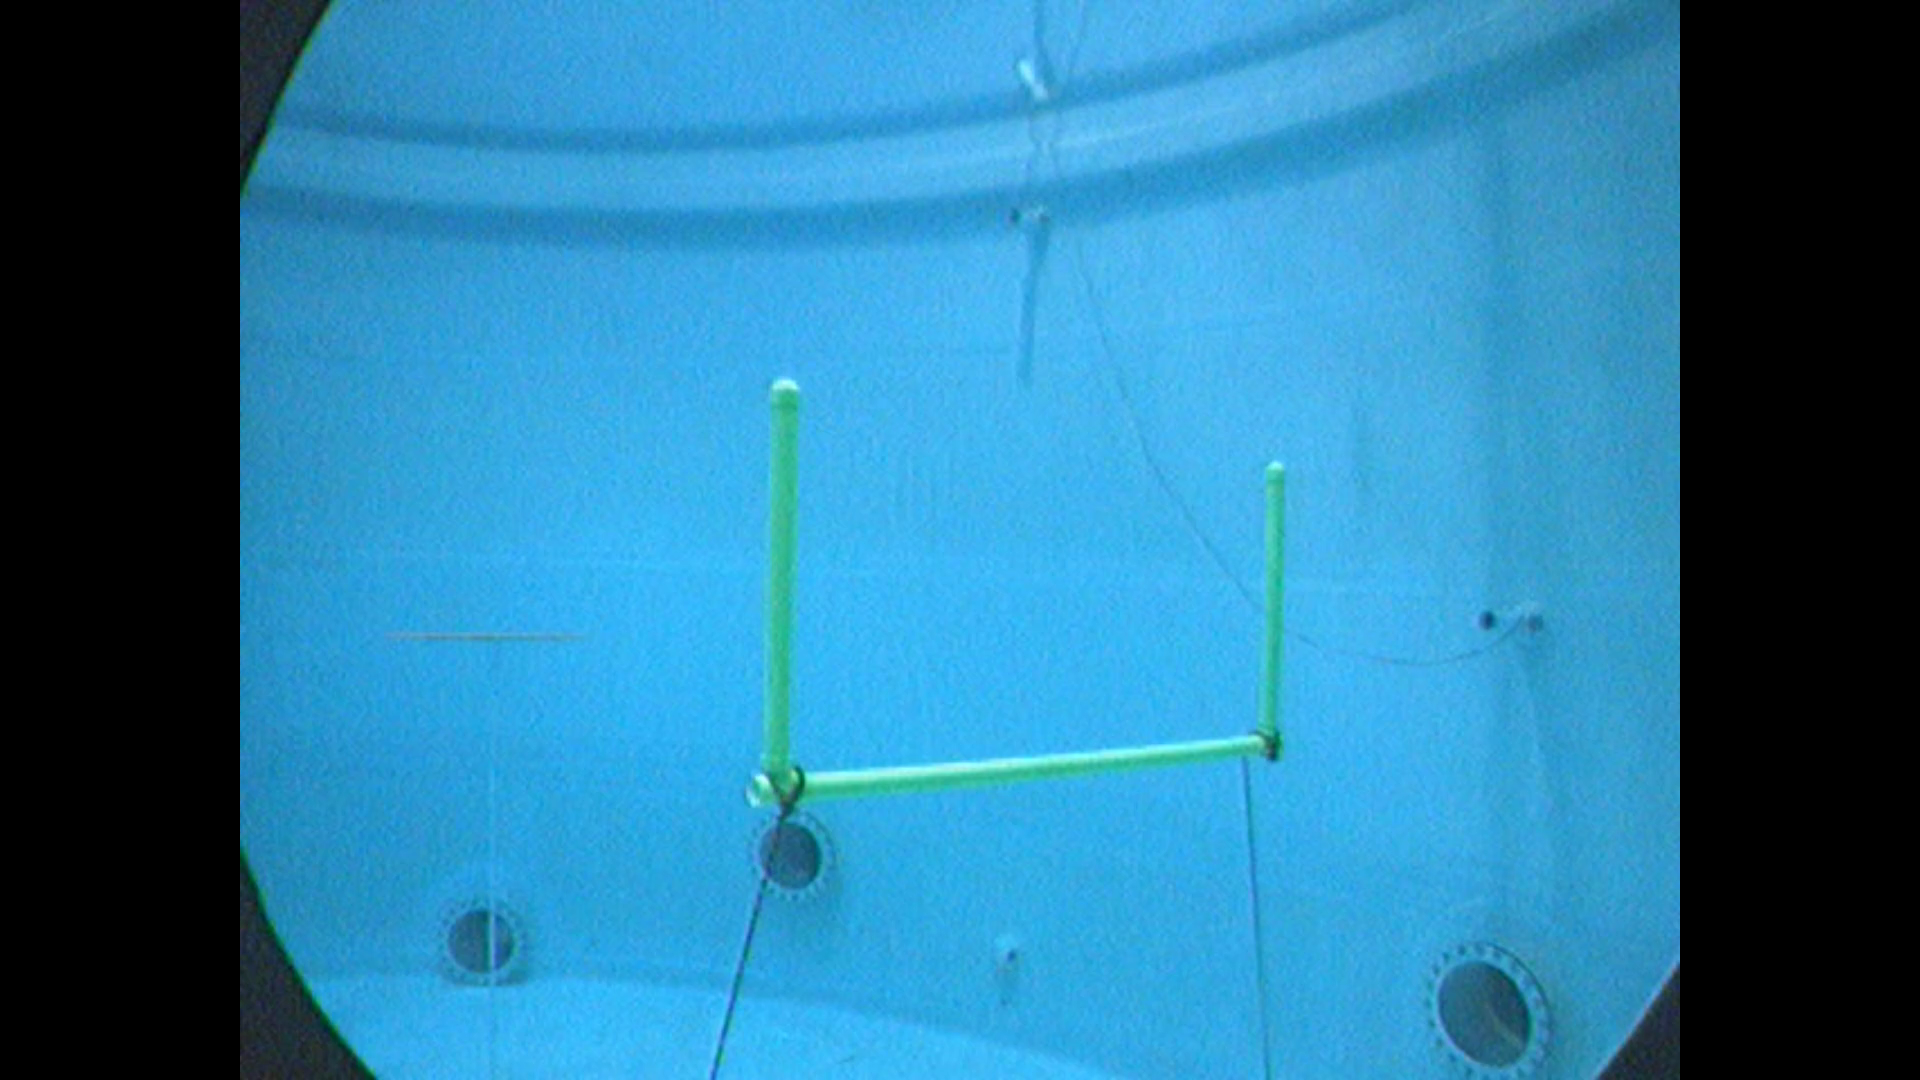gate: (737, 367, 1296, 804)
